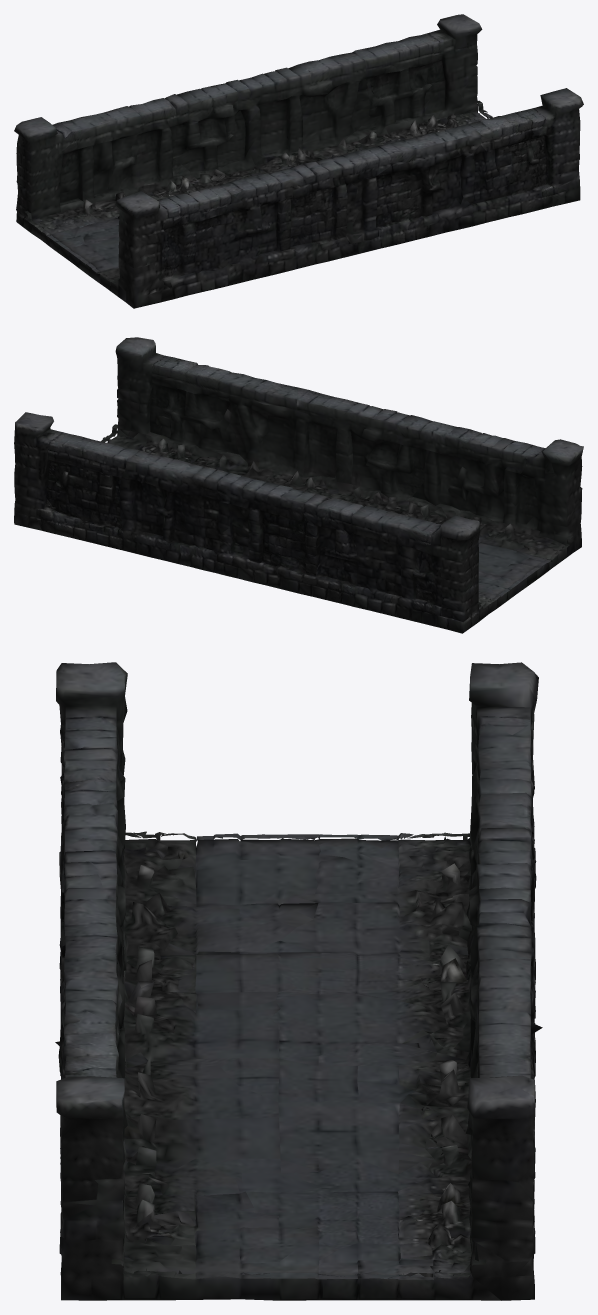
The model's file is tile.longhallway.glb.
3 renders of one model, top to bottom at view 1: azimuth 30°, elevation 25°; view 2: azimuth 150°, elevation 25°; view 3: azimuth 270°, elevation 25°, orthographic. The views are drawn at different scales.
Parts seen in each view (by area): view 1: tripo_part_0, tripo_part_17, tripo_part_1, tripo_part_26, tripo_part_21, tripo_part_4, tripo_part_8, tripo_part_10, tripo_part_13, tripo_part_11, tripo_part_24, tripo_part_2 (+8 smaller); view 2: tripo_part_0, tripo_part_17, tripo_part_18, tripo_part_5, tripo_part_27, tripo_part_23, tripo_part_7, tripo_part_8, tripo_part_11, tripo_part_25, tripo_part_22, tripo_part_19 (+9 smaller); view 3: tripo_part_3, tripo_part_0, tripo_part_9, tripo_part_17, tripo_part_6, tripo_part_2, tripo_part_19, tripo_part_20, tripo_part_1, tripo_part_34, tripo_part_12, tripo_part_28 (+11 smaller).
Part boxes in pixels (<box>): tripo_part_0: <box>52,32,443,154</box>; tripo_part_17: <box>159,108,546,229</box>; tripo_part_1: <box>24,97,558,304</box>; tripo_part_26: <box>244,79,370,164</box>; tripo_part_21: <box>60,126,190,202</box>; tripo_part_4: <box>161,199,285,281</box>; tripo_part_8: <box>115,191,168,308</box>; tripo_part_10: <box>376,149,463,227</box>; tripo_part_13: <box>460,136,548,205</box>; tripo_part_11: <box>14,117,72,220</box>; tripo_part_24: <box>356,60,445,134</box>; tripo_part_2: <box>535,88,583,206</box>; tripo_part_0: <box>47,431,441,549</box>; tripo_part_17: <box>151,355,545,473</box>; tripo_part_18: <box>36,498,478,633</box>; tripo_part_5: <box>119,478,250,568</box>; tripo_part_27: <box>228,396,337,477</box>; tripo_part_23: <box>412,449,537,524</box>; tripo_part_7: <box>308,526,436,604</box>; tripo_part_8: <box>521,439,583,557</box>; tripo_part_11: <box>419,515,479,621</box>; tripo_part_25: <box>149,384,239,454</box>; tripo_part_22: <box>46,460,122,529</box>; tripo_part_19: <box>14,412,59,530</box>; tripo_part_3: <box>122,1057,500,1300</box>; tripo_part_0: <box>468,716,542,1079</box>; tripo_part_9: <box>124,946,446,1068</box>; tripo_part_17: <box>60,716,125,1078</box>; tripo_part_6: <box>194,838,470,906</box>; tripo_part_2: <box>56,1076,127,1300</box>; tripo_part_19: <box>467,1075,535,1300</box>; tripo_part_20: <box>357,1052,472,1244</box>; tripo_part_1: <box>59,831,486,1279</box>; tripo_part_34: <box>161,941,430,1000</box>; tripo_part_12: <box>399,861,471,1059</box>; tripo_part_28: <box>216,1191,399,1263</box>.
Bounding box in the file's own units: 0.9799 × 0.2078 × 0.4546.
1 material, 1 textured.
